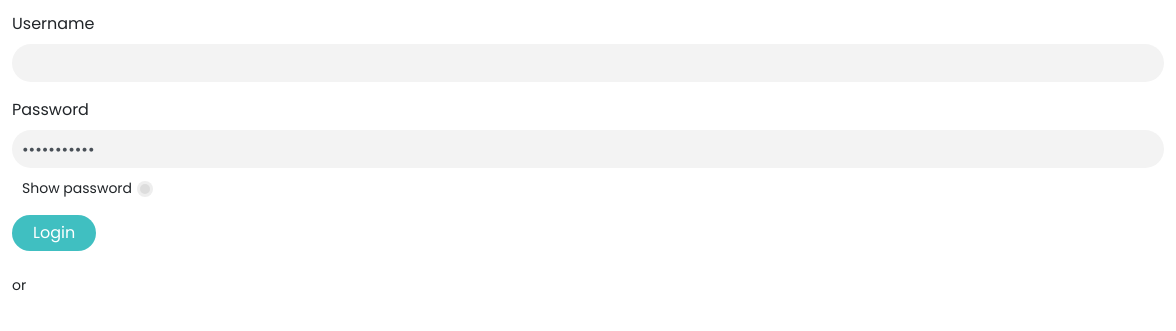
Test: SignInForm.vue › render an error when username is not filled
This screenshot has width=1176, height=331.
Click the button "Login". click: click(54, 233)
box: [12,215,96,251]
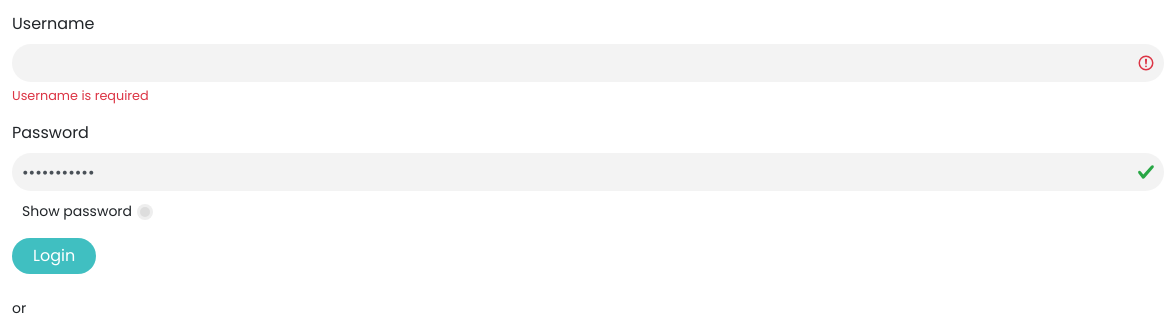
Result: the text with class "error_username" reads "Username is required" at [12,87,149,104]
